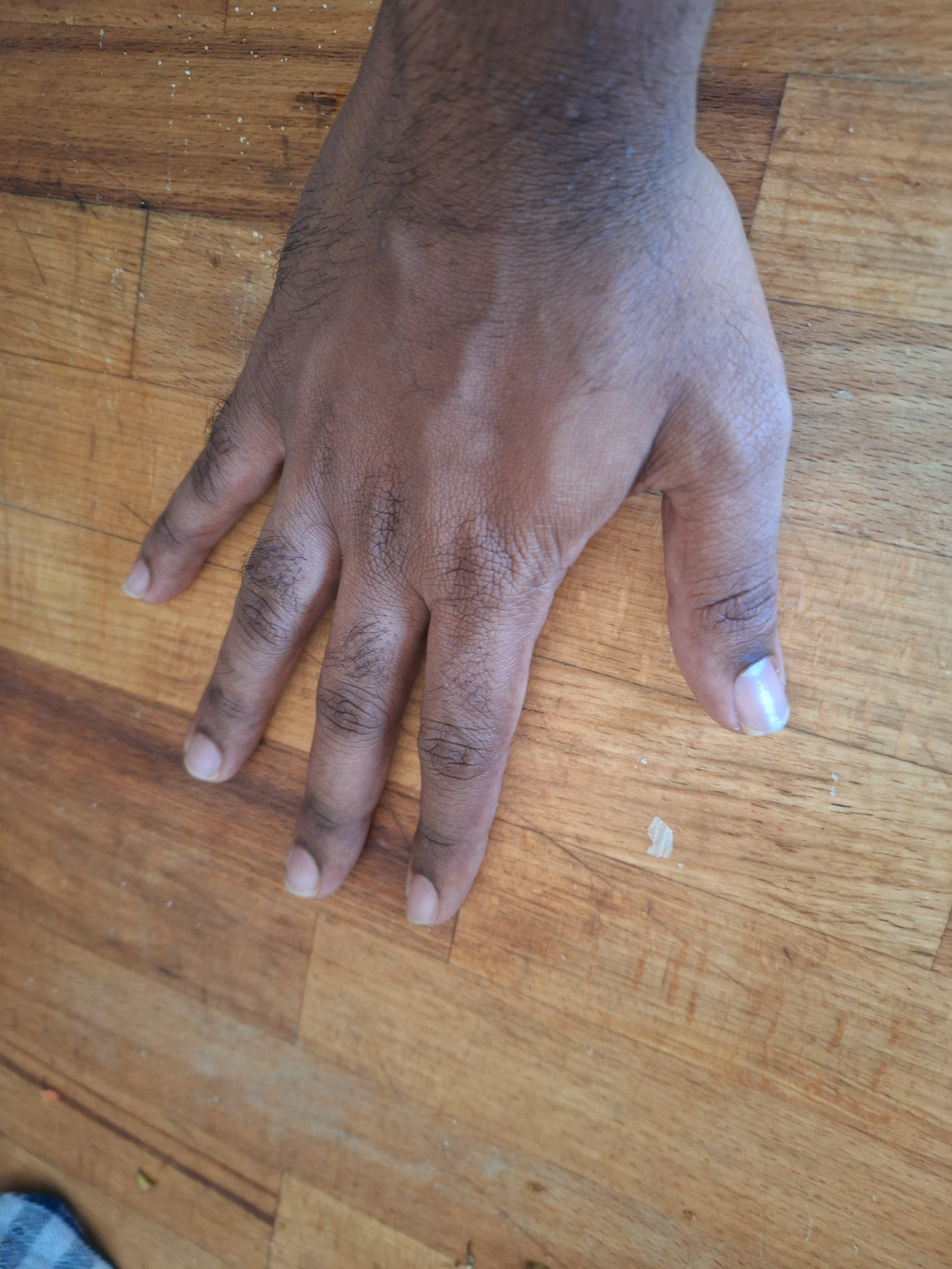Fingernail: (734, 656, 790, 737), (184, 733, 224, 782), (284, 847, 320, 898), (405, 875, 439, 926), (123, 561, 152, 599)
